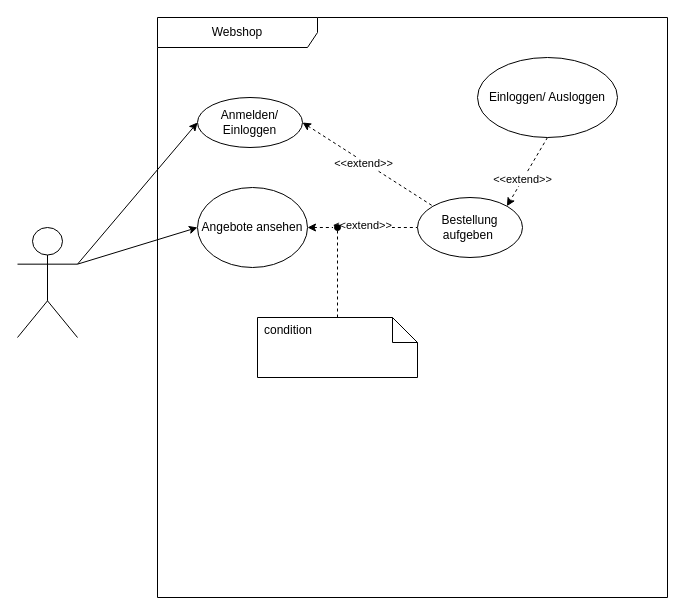
This 685x615 diagram has some shape labels left out. The box of each missing label's shape, as (x1, y1, x2, y2) in pixels:
Anwender: (16, 226, 78, 338)
Muss eingeloggt sein: (256, 316, 418, 378)
